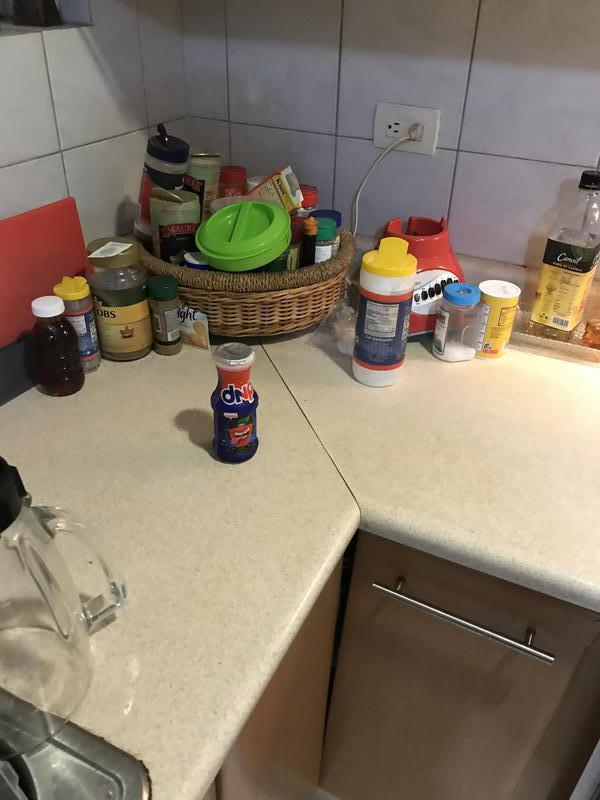danup: (207, 340, 260, 465)
